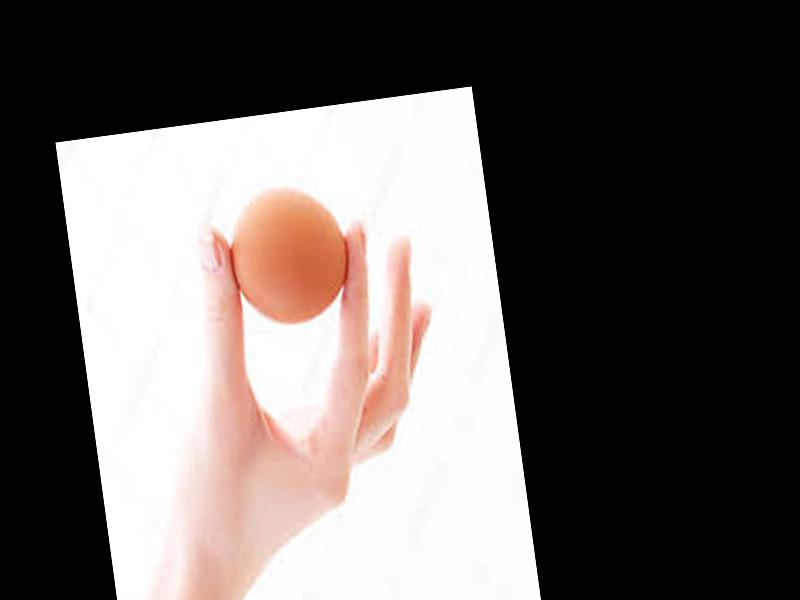Eggs: (221, 182, 356, 328)
